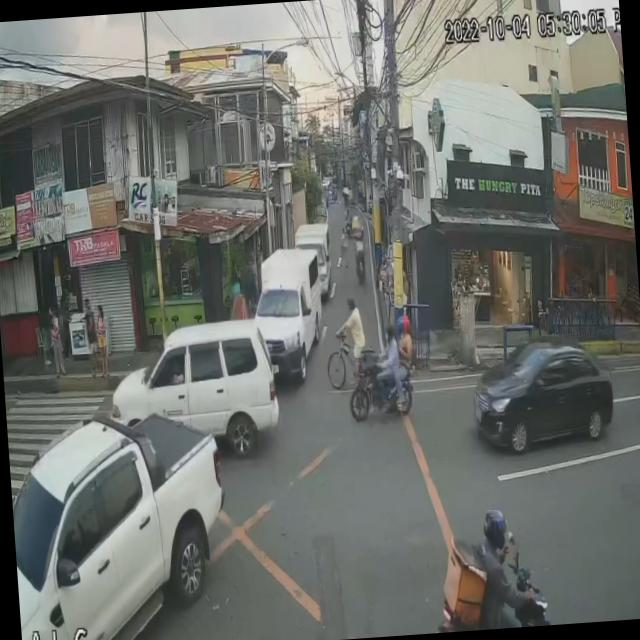full: (482, 504, 508, 552)
half: (381, 319, 395, 346), (394, 314, 410, 334)
